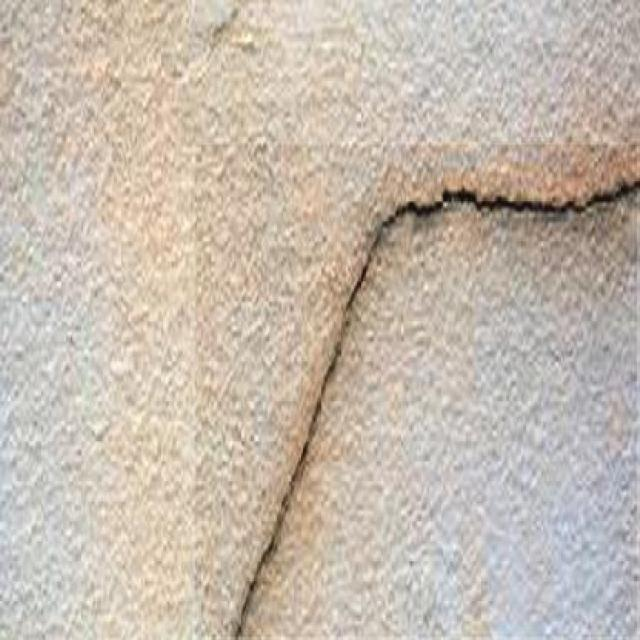Crack: (232, 172, 640, 630)
